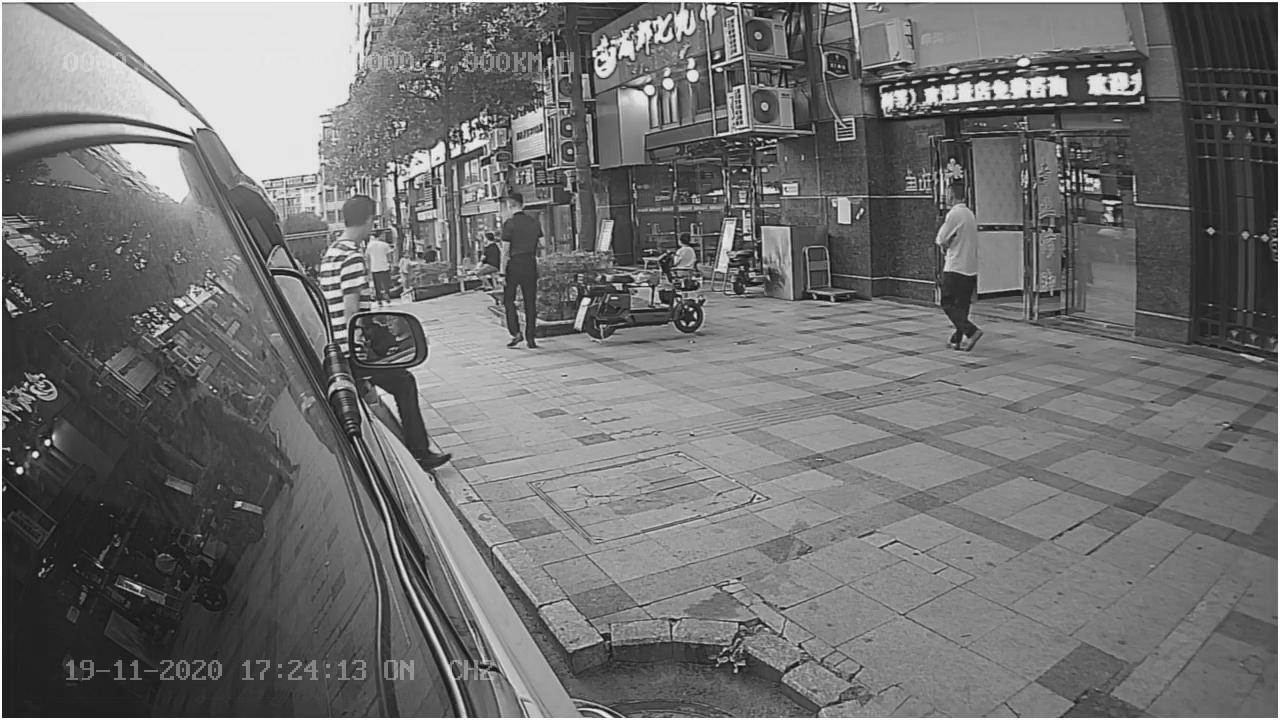person: (922, 175, 993, 357)
